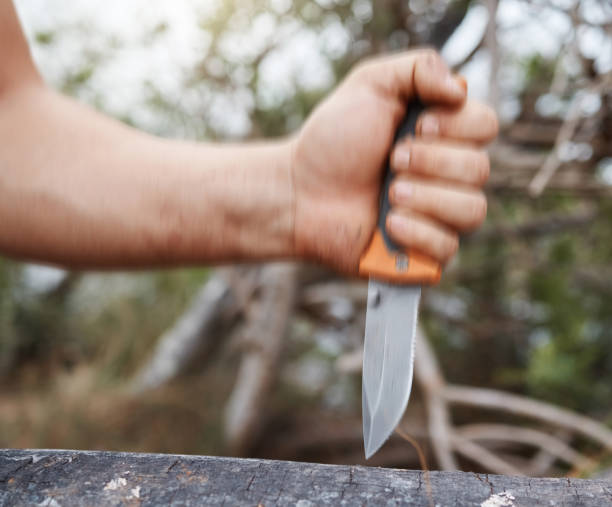knife: (358, 96, 444, 462)
